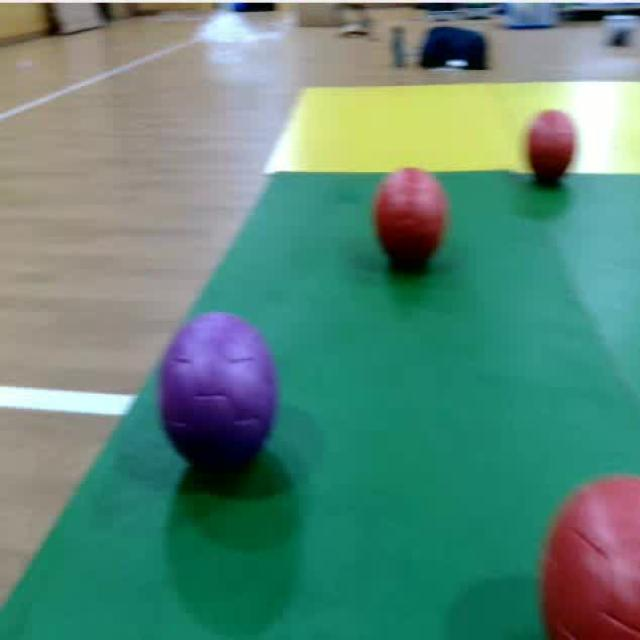purple_ball: (159, 310, 282, 482)
red_ball: (542, 466, 639, 640), (368, 164, 456, 274), (526, 102, 580, 196)
